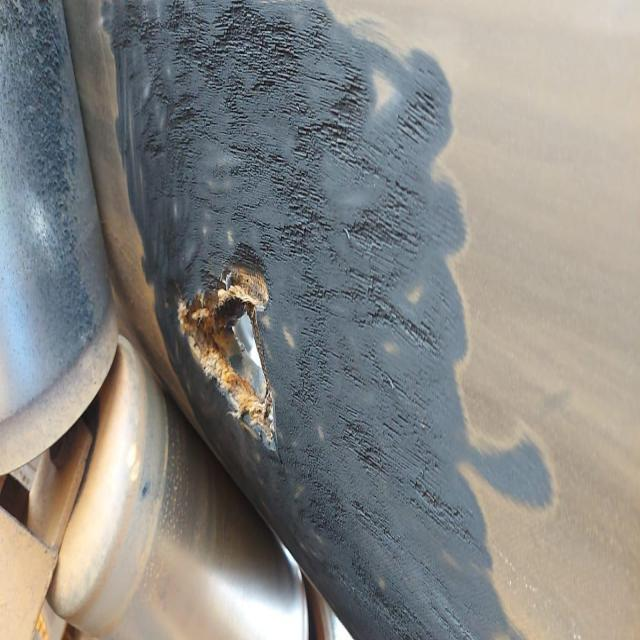Hole: (172, 238, 300, 457)
Wear: (100, 0, 462, 640)
